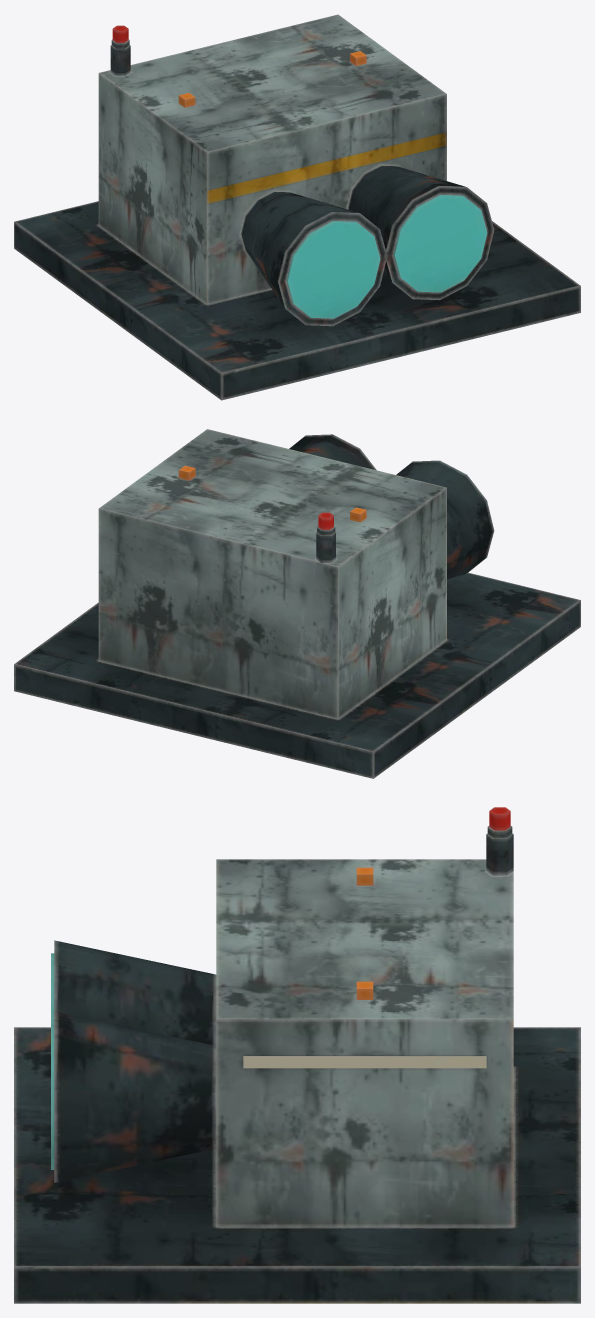
The model's file is ion_drive.glb.
3 views of the same model, one above another, from view 1: azimuth 30°, elevation 25°; view 2: azimuth 150°, elevation 25°; view 3: azimuth 270°, elevation 25° (orthographic). The views are drawn at different scales.
Parts seen in each view (by area): view 1: te_ion_drive; view 2: te_ion_drive; view 3: te_ion_drive.
Part boxes in pixels (x1,y1,x2,y2): te_ion_drive: [14, 14, 580, 400]; te_ion_drive: [14, 429, 580, 778]; te_ion_drive: [14, 807, 580, 1303].
Bounding box in the file's own units: 0.84 × 0.4976 × 0.84.
1 material, 1 textured.
